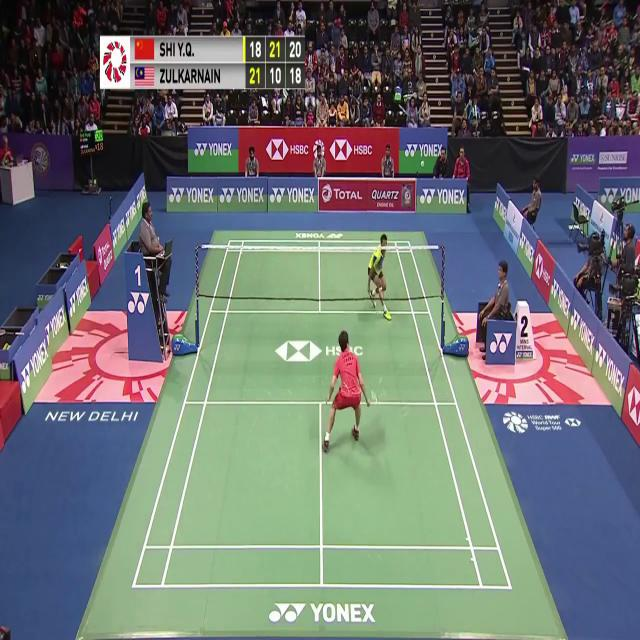Shuttlecock: (418, 156, 425, 168)
